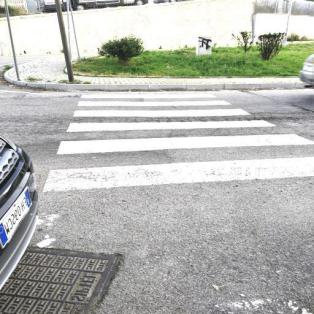Paso de Cebra: (61, 107, 283, 136)
